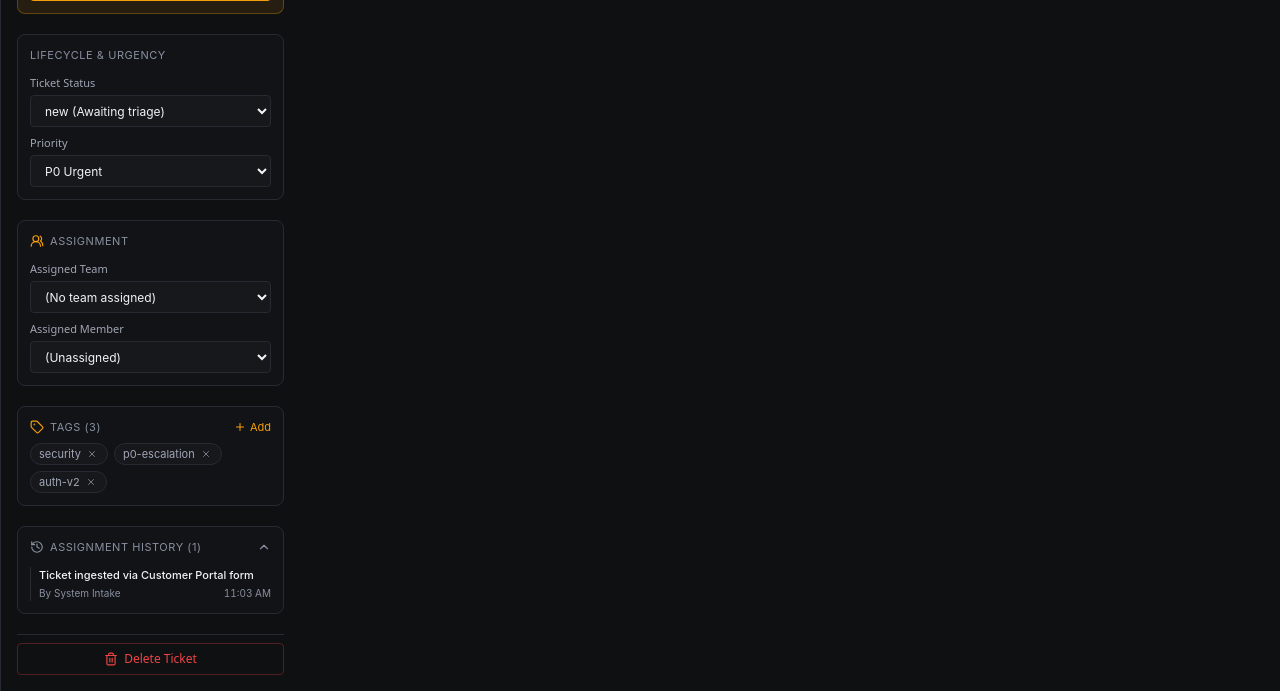
Scenario: TicketCockpit.Inspector & TicketMetadataInspector (Issue #105) › renders Delete Ticket button for admin role and opens confirmation modal before issuing delete
(page scrolled)
Click the button with test id "admin-delete-ticket-btn" at (150, 659), box [17,643,284,675]
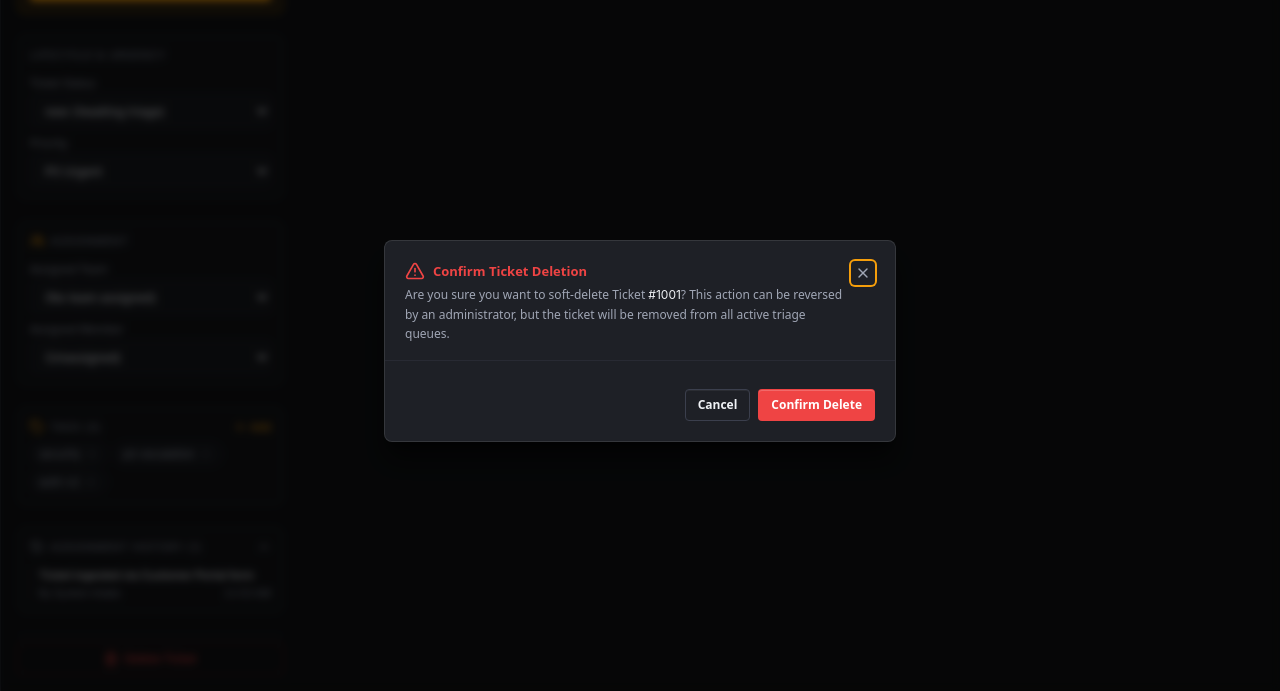
Now the element with test id "delete-confirmation-modal" is shown, box [685,389,875,421]
Now the text "Confirm Ticket Deletion" is shown, box [433,262,587,281]
Cancel deletion
Click the button with test id "cancel-delete-btn" at (718, 405), box [685,389,750,421]
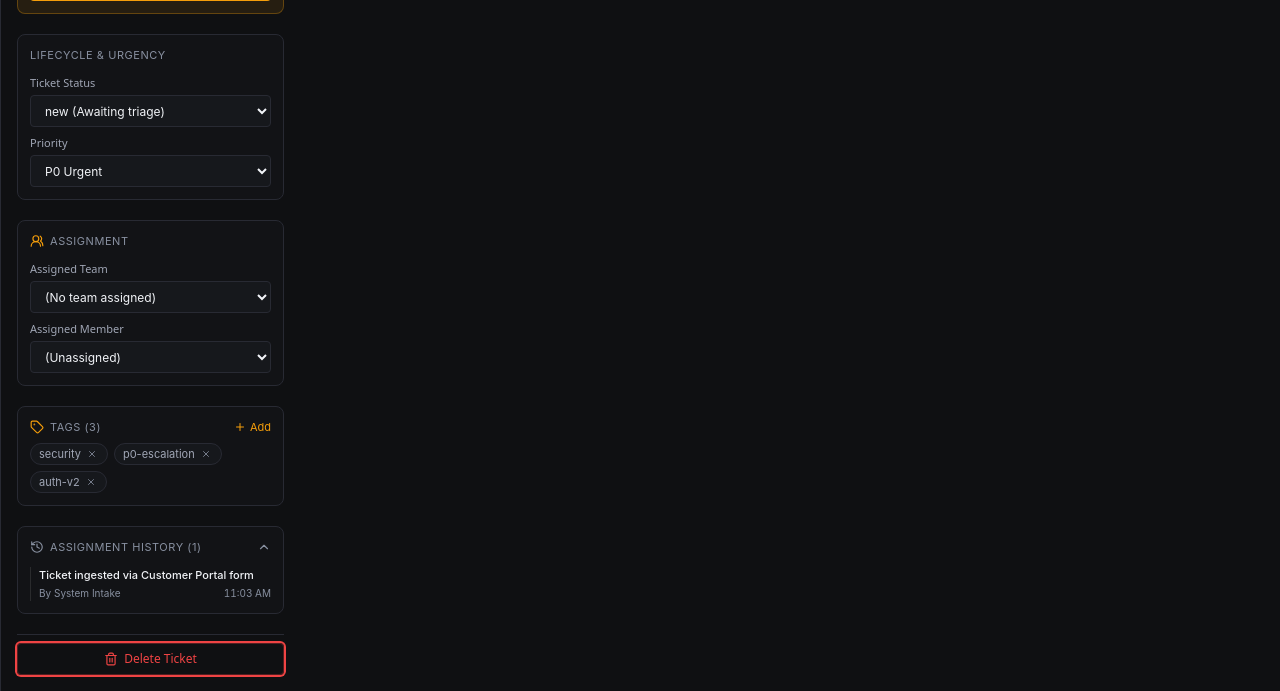
Now the element with test id "delete-confirmation-modal" is gone
Click again and confirm deletion
Click the button with test id "admin-delete-ticket-btn" at (150, 659), box [17,643,284,675]
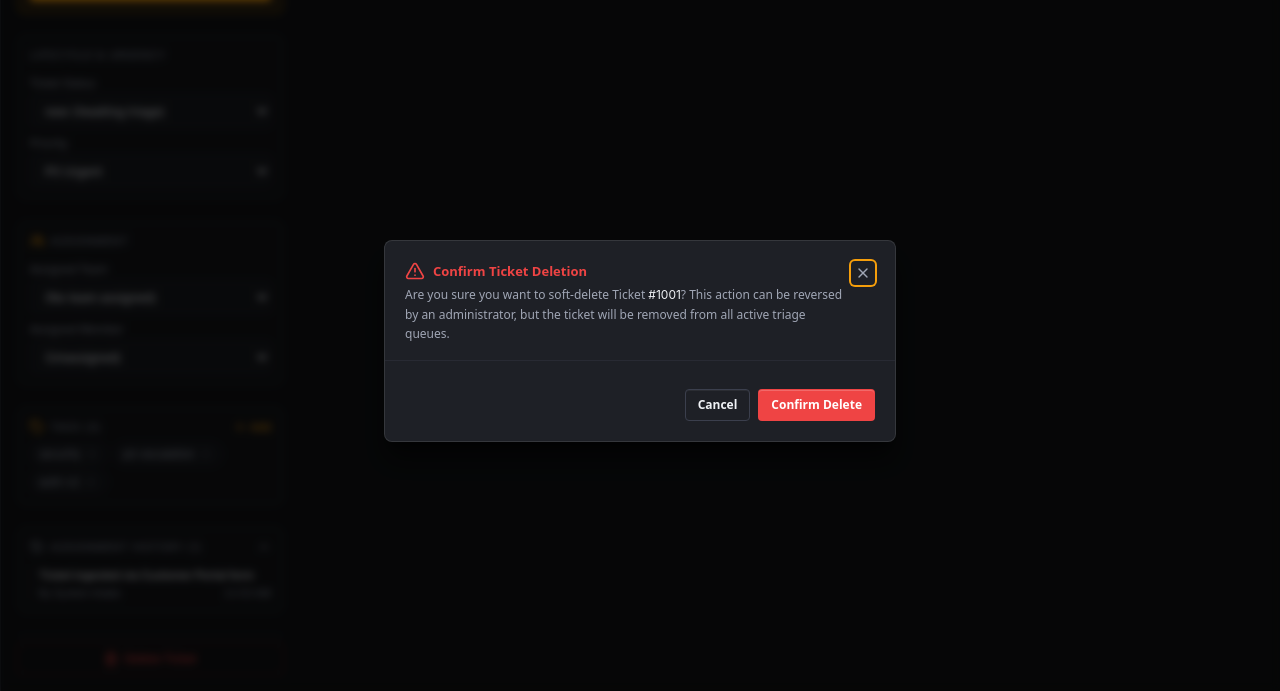
Click the button with test id "confirm-delete-btn" at (817, 405), box [758,389,875,421]
(page scrolled)
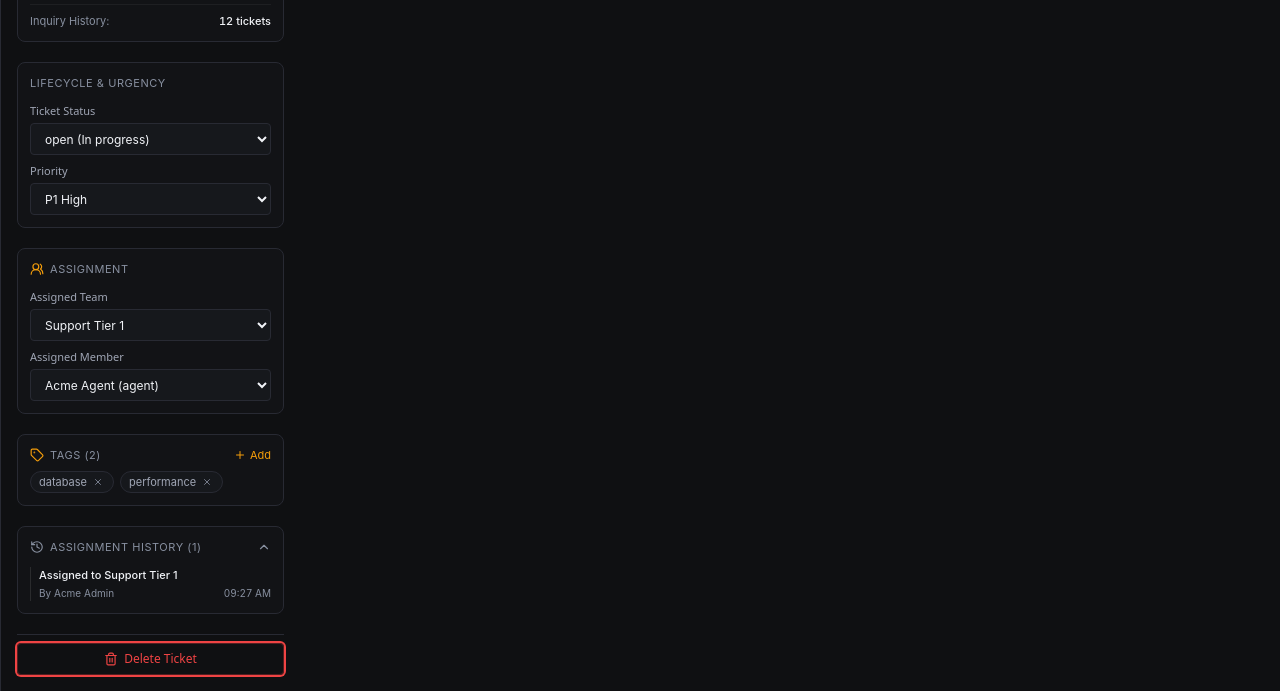
Now the element with test id "delete-confirmation-modal" is gone
